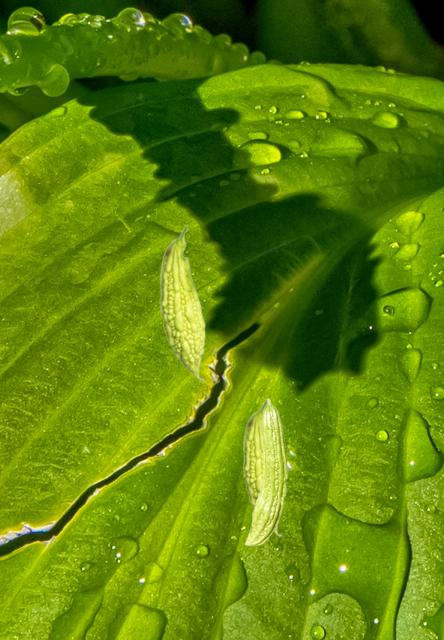ampalaya: (158, 223, 206, 383), (244, 397, 289, 548), (241, 399, 282, 538)
